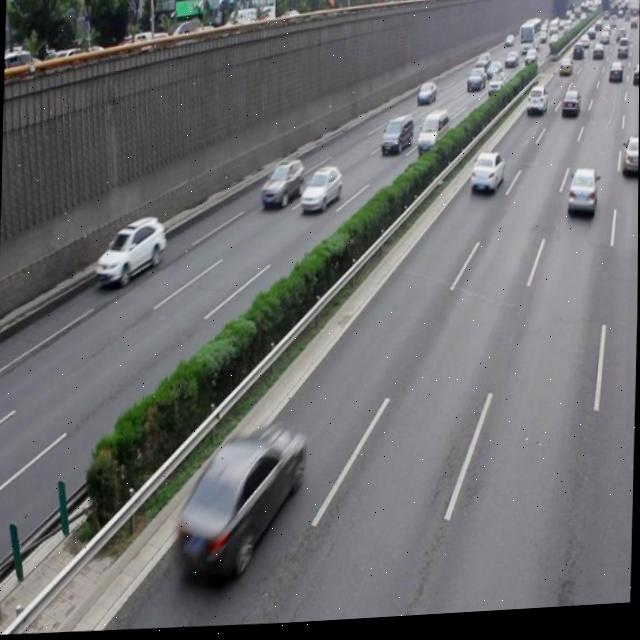car: (177, 421, 306, 582), (93, 215, 166, 288), (260, 159, 303, 211), (300, 165, 343, 216), (468, 153, 505, 200), (566, 173, 597, 224), (620, 141, 639, 186)
truck: (414, 113, 449, 162), (379, 118, 413, 161)
